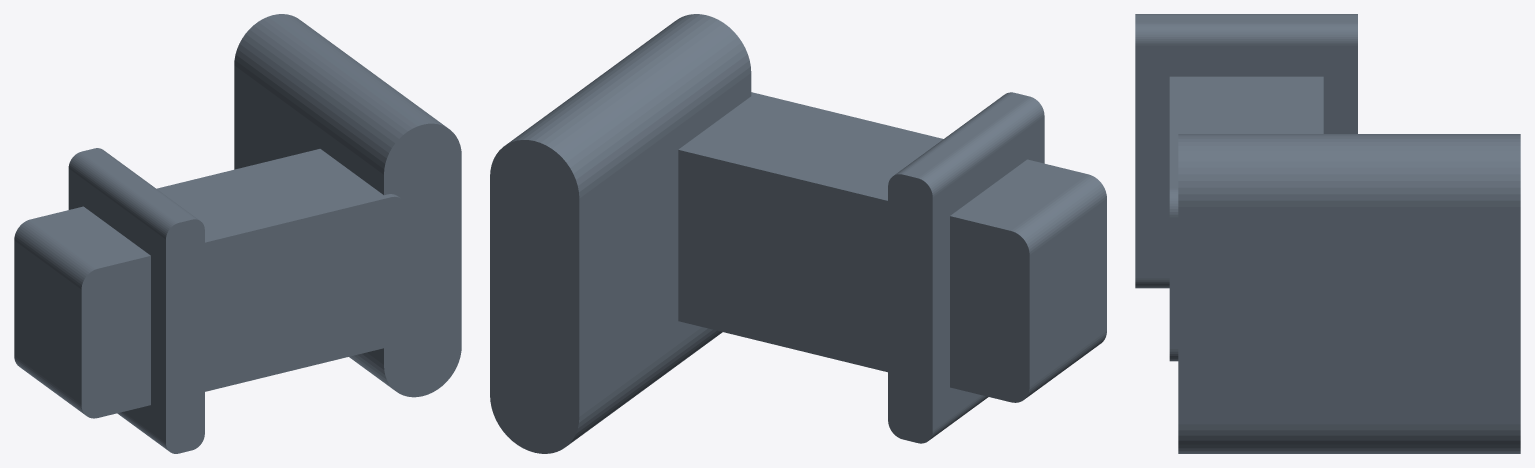
The model's file is button-plunger-SW2.glb.
The picture shows the model from 3 angles, left to right: view 1: azimuth 30°, elevation 25°; view 2: azimuth 150°, elevation 25°; view 3: azimuth 270°, elevation 25°; orthographic projection. The views are drawn at different scales.
Visible parts, largest first — view 1: button-plunger-SW2; view 2: button-plunger-SW2; view 3: button-plunger-SW2.
Part boxes in pixels (box(x1,y1,x2,y2)): button-plunger-SW2: box(14, 14, 461, 453); button-plunger-SW2: box(490, 14, 1106, 453); button-plunger-SW2: box(1135, 14, 1520, 453).
Size of the model in its own units: 5.92 by 4 by 4.5.
